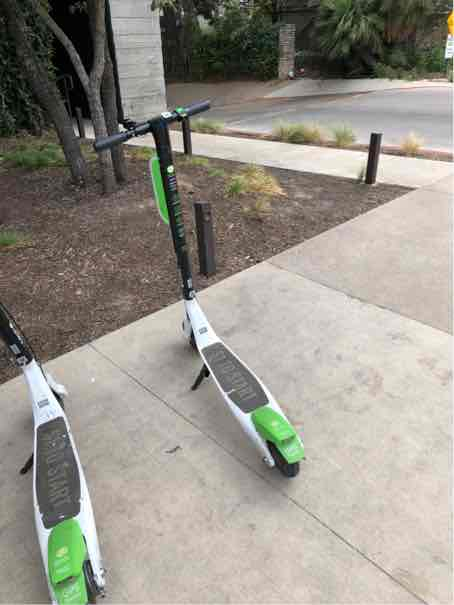scooter: (97, 88, 454, 324)
